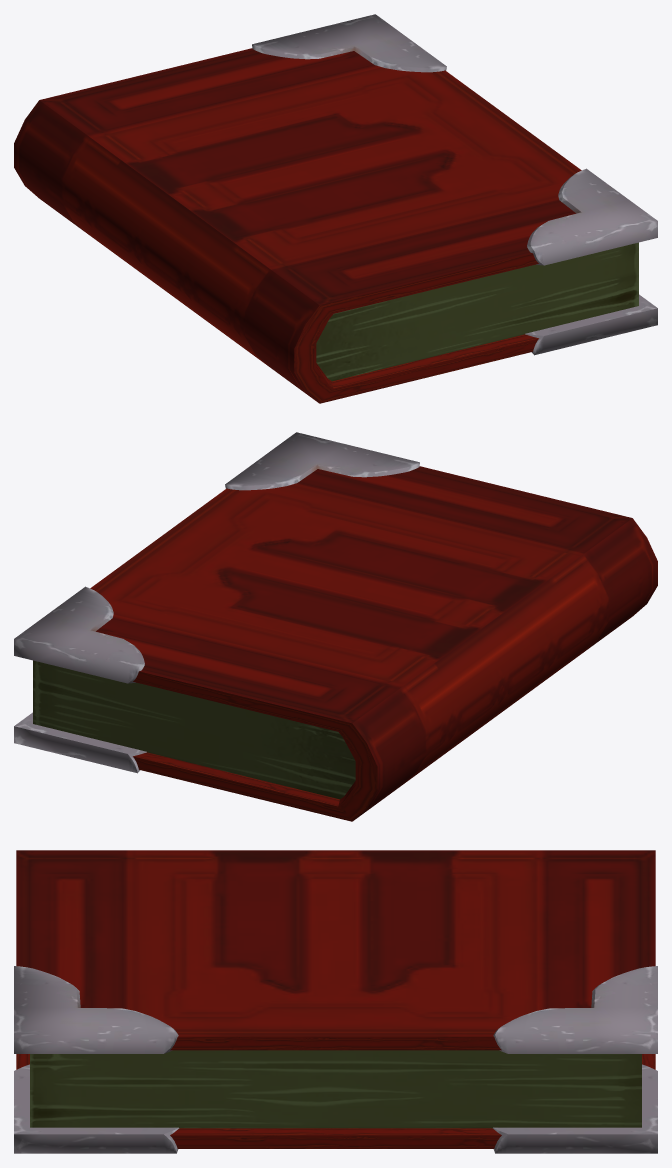
Rendered from Book_7.glb.
The picture shows the model from 3 angles, top to bottom: view 1: azimuth 30°, elevation 25°; view 2: azimuth 150°, elevation 25°; view 3: azimuth 270°, elevation 25°; orthographic projection. The views are drawn at different scales.
Parts seen in each view (by area): view 1: Book_7; view 2: Book_7; view 3: Book_7.
Boxes of the visible parts, x1,y1,x2,y2 form: Book_7: (14,14,657,403); Book_7: (14,432,657,821); Book_7: (14,850,657,1153).
Bounding box in the file's own units: 0.247 × 0.0679 × 0.3333.
2 materials, 2 textured.
